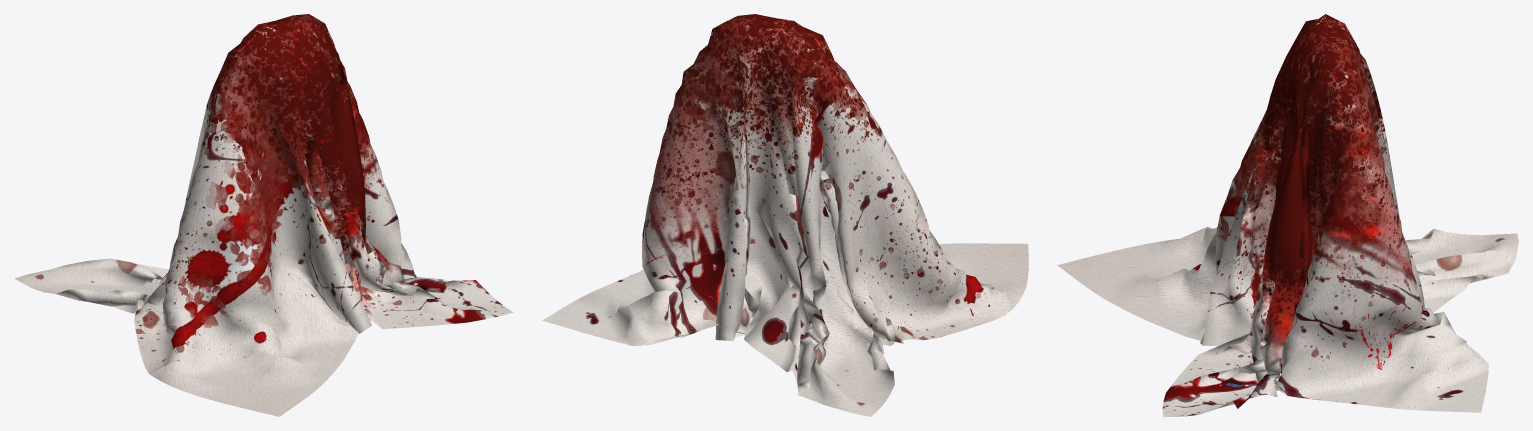
The picture shows the model from 3 angles, left to right: view 1: azimuth 30°, elevation 25°; view 2: azimuth 150°, elevation 25°; view 3: azimuth 270°, elevation 25°; orthographic projection. The views are drawn at different scales.
Parts seen in each view (by area): view 1: Plane002; view 2: Plane002; view 3: Plane002.
Part boxes in pixels (x1,y1,x2,y2): Plane002: [14, 14, 513, 416]; Plane002: [542, 14, 1028, 416]; Plane002: [1057, 14, 1518, 416].
Bounding box in the file's own units: 0.795 × 0.6197 × 0.8457.
1 material, 1 textured.
